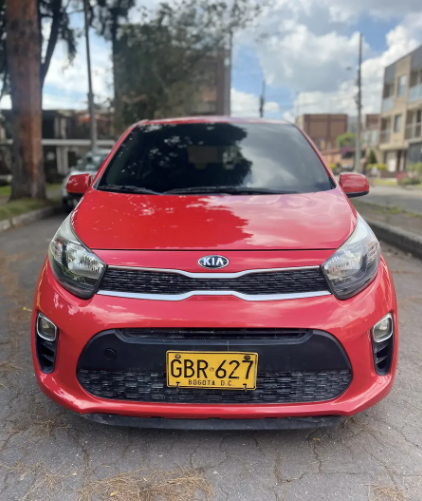placa: (165, 349, 259, 392)
